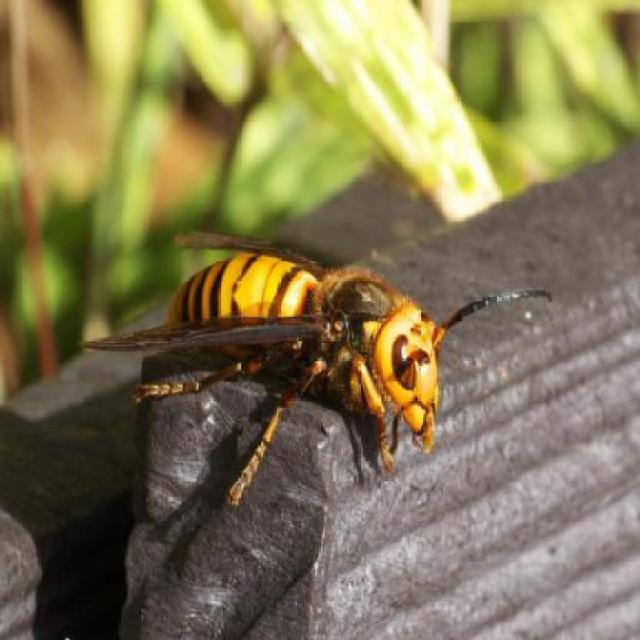Wasp: (84, 210, 560, 509)
